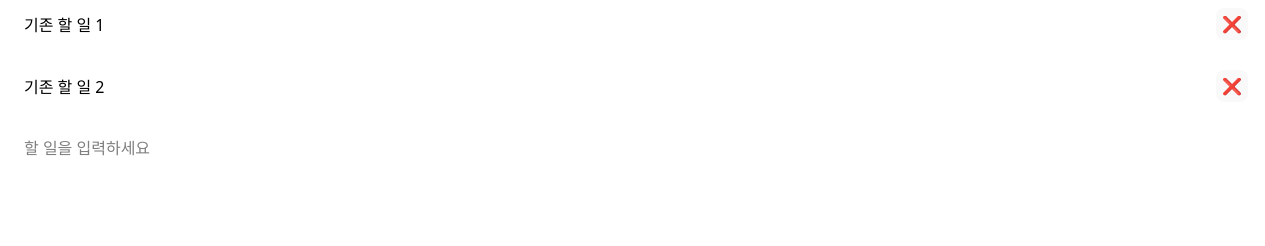
Test case: TodoList에 새로운 할 일을 추가할 수 있어야 합니다
In the field with placeholder "할 일을 입력하세요": (632, 148) left=16, top=129, right=1248, bottom=167, type "새로운 할 일"
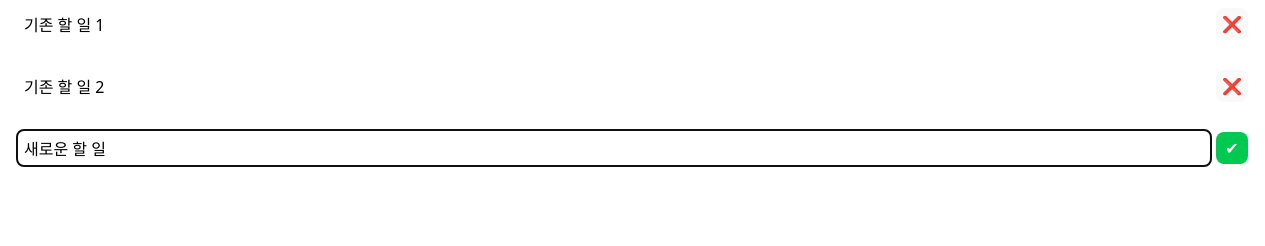
Click the button named "추가": (1232, 148) left=1216, top=132, right=1248, bottom=164
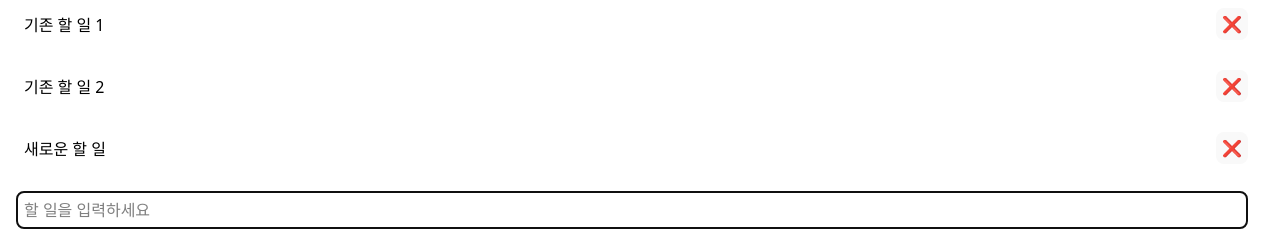
Result: the 3rd field showing "새로운 할 일" is shown at left=16, top=129, right=1212, bottom=167
